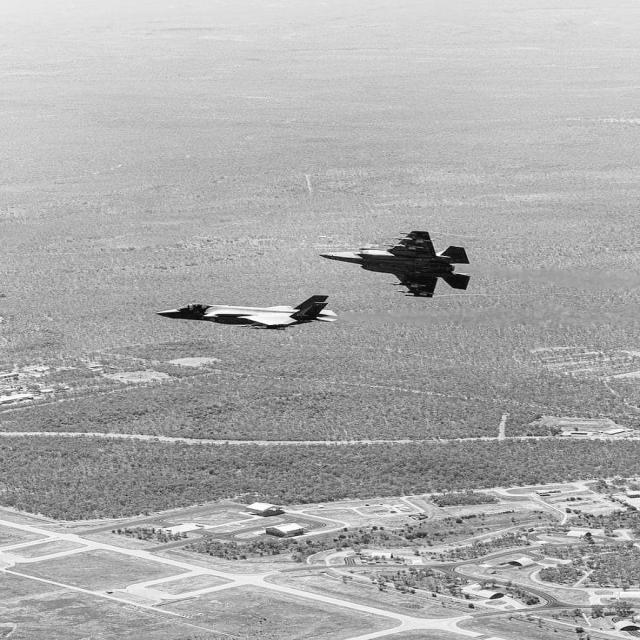iha: (320, 231, 469, 297), (157, 295, 336, 322)
